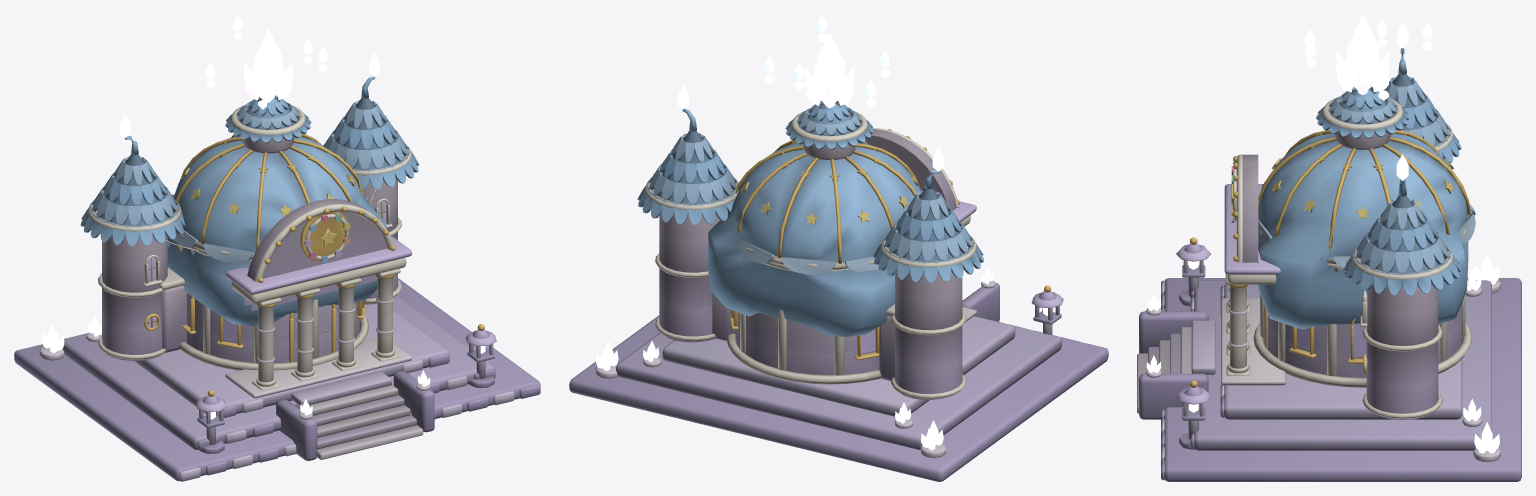
Rendered from pebble-peaks-temple.glb.
The picture shows the model from 3 angles, left to right: view 1: azimuth 30°, elevation 25°; view 2: azimuth 150°, elevation 25°; view 3: azimuth 270°, elevation 25°; orthographic projection. The views are drawn at different scales.
Parts seen in each view (by area): view 1: W_PEBBLE_PEAKS_TEMPLE__body; view 2: W_PEBBLE_PEAKS_TEMPLE__body; view 3: W_PEBBLE_PEAKS_TEMPLE__body.
Boxes of the visible parts, x1,y1,x2,y2 form: W_PEBBLE_PEAKS_TEMPLE__body: [14, 14, 540, 481]; W_PEBBLE_PEAKS_TEMPLE__body: [569, 14, 1108, 481]; W_PEBBLE_PEAKS_TEMPLE__body: [1137, 14, 1521, 481].
Bounding box in the file's own units: 2 × 1.8 × 1.68.
